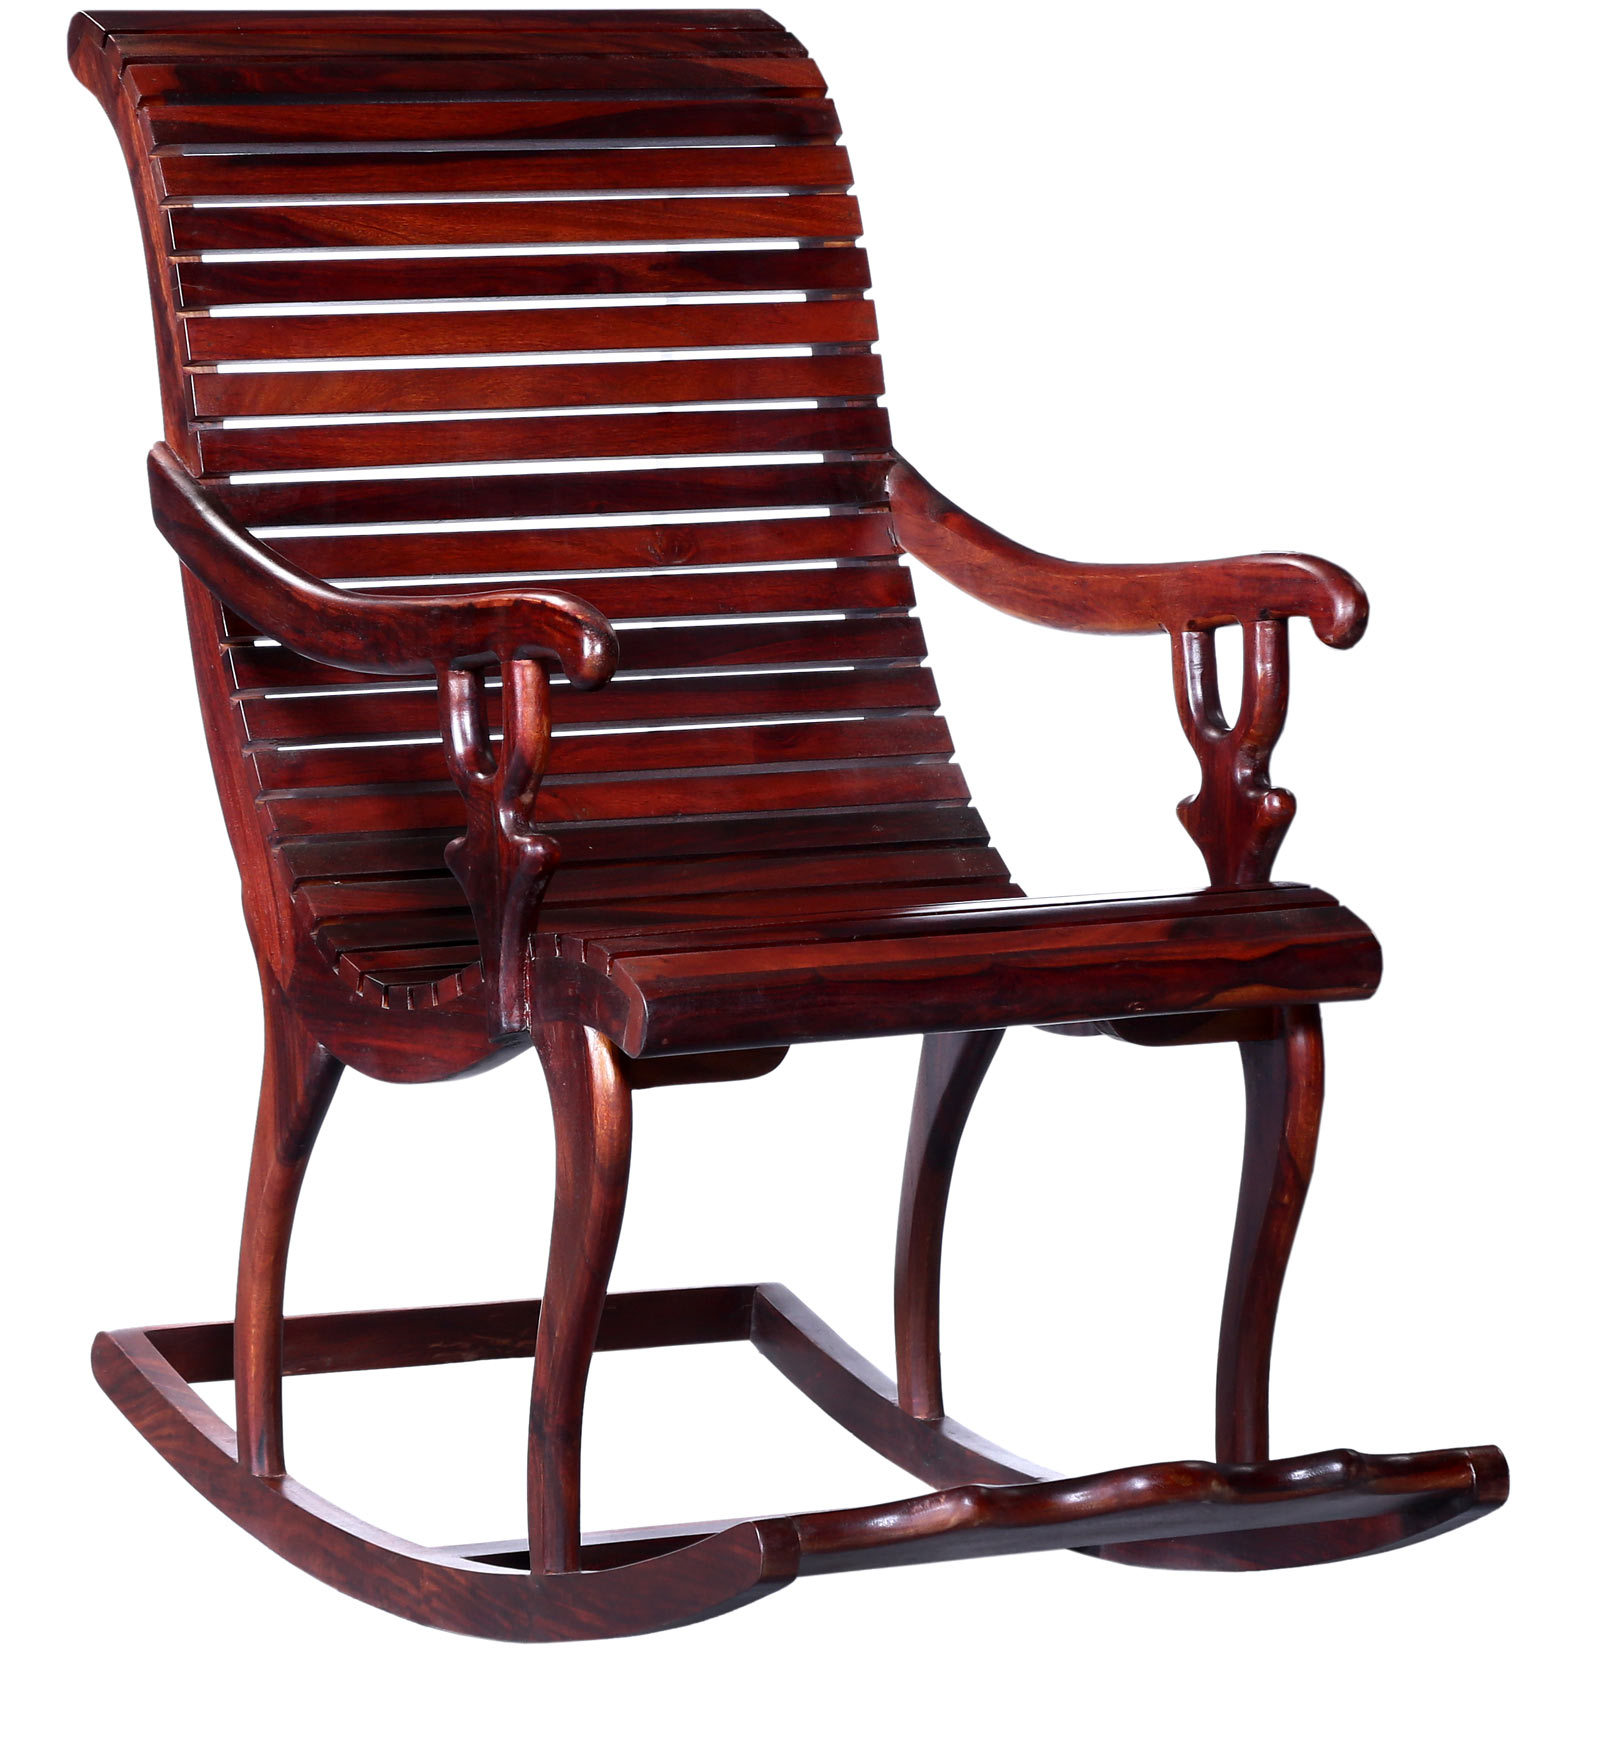Acklom Rocking Chair in Honey Oak Finish by Amberville: (41, 9, 1543, 1657)
